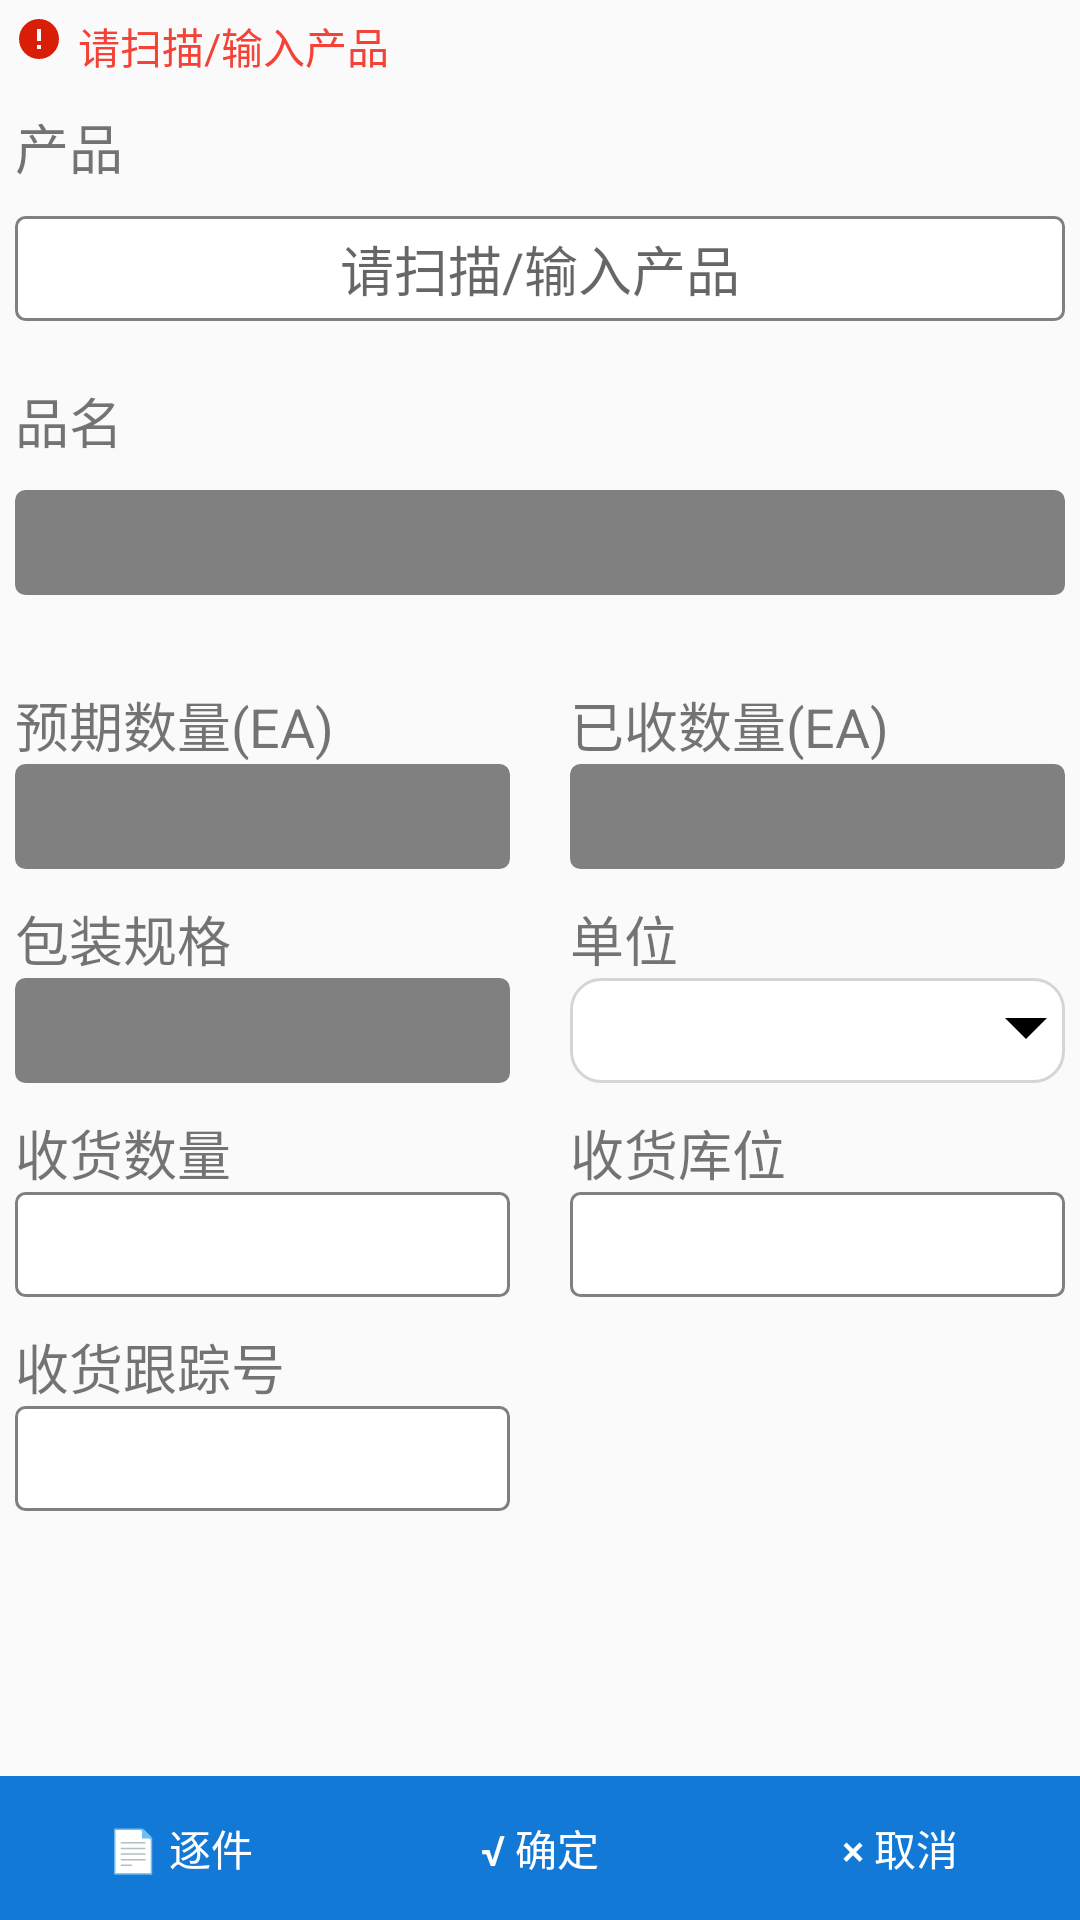

Locate icon controls on the screen. Image size 1080 x 1920, boxes as box(x1, y1, x2, y2).
error: box(19, 19, 59, 59)
